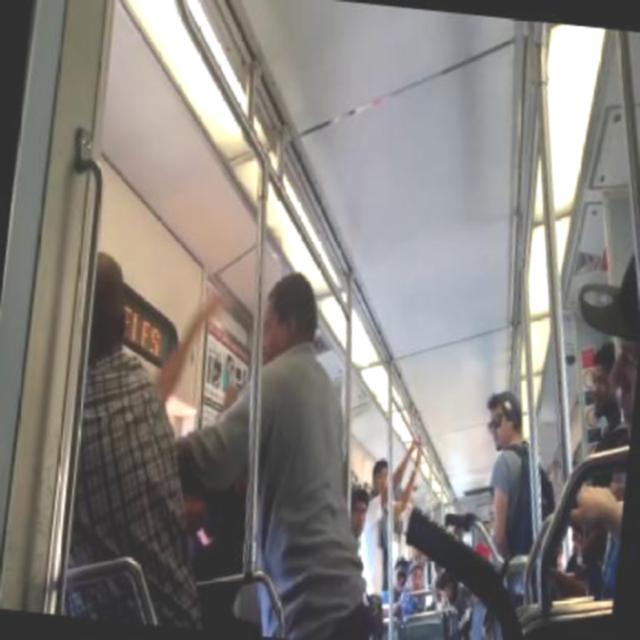fight: (59, 247, 372, 638)
non-fight: (470, 385, 567, 553)
